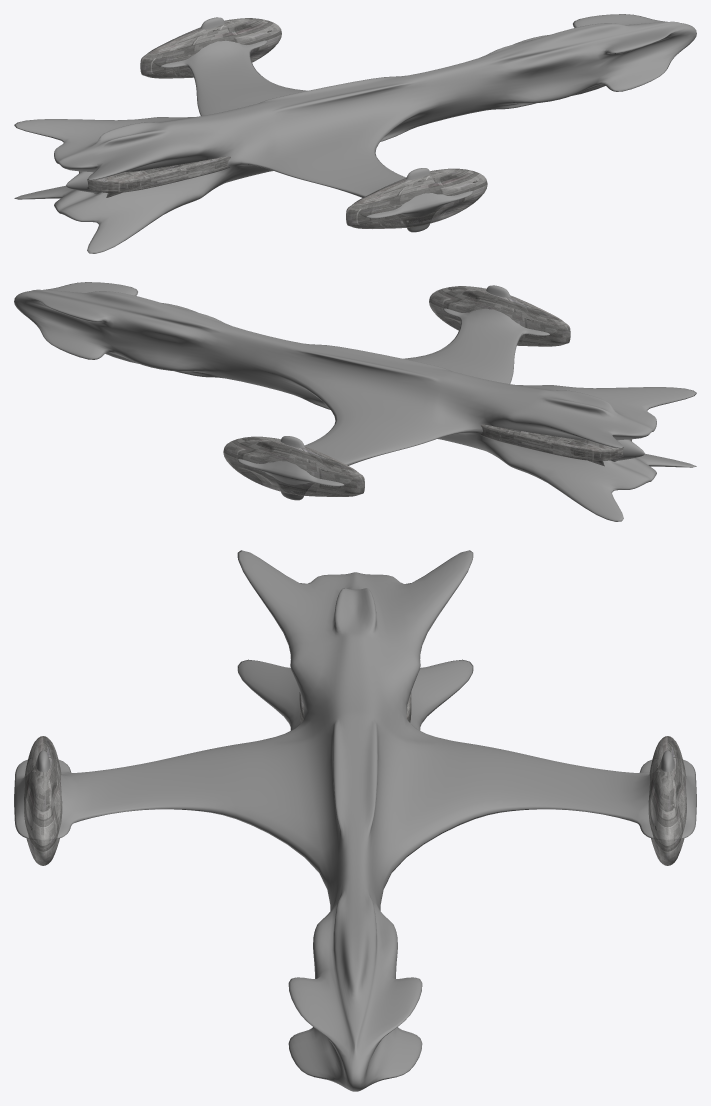
The model's file is Eriax_Heavy_Crusier.FBX.
3 views of the same model, one above another, from view 1: azimuth 30°, elevation 25°; view 2: azimuth 150°, elevation 25°; view 3: azimuth 270°, elevation 25° (orthographic). The views are drawn at different scales.
Parts seen in each view (by area): view 1: Box01, Sphere02, Sphere01, Box02, Tube02; view 2: Box01, Sphere01, Sphere02, Box02, Tube02; view 3: Box01, Sphere02, Sphere01.
Boxes of the visible parts, x1,y1,x2,y2 form: Box01: [14, 14, 696, 253]; Sphere02: [346, 168, 487, 228]; Sphere01: [140, 18, 281, 78]; Box02: [79, 156, 230, 192]; Tube02: [106, 171, 139, 197]; Box01: [14, 282, 696, 521]; Sphere01: [223, 436, 364, 496]; Sphere02: [429, 286, 570, 346]; Box02: [480, 424, 631, 460]; Tube02: [571, 439, 604, 466]; Box01: [14, 550, 696, 1091]; Sphere02: [24, 736, 62, 865]; Sphere01: [648, 736, 686, 865].
Bounding box in the file's own units: 125 × 14.77 × 75.59.
2 materials, 1 textured.
